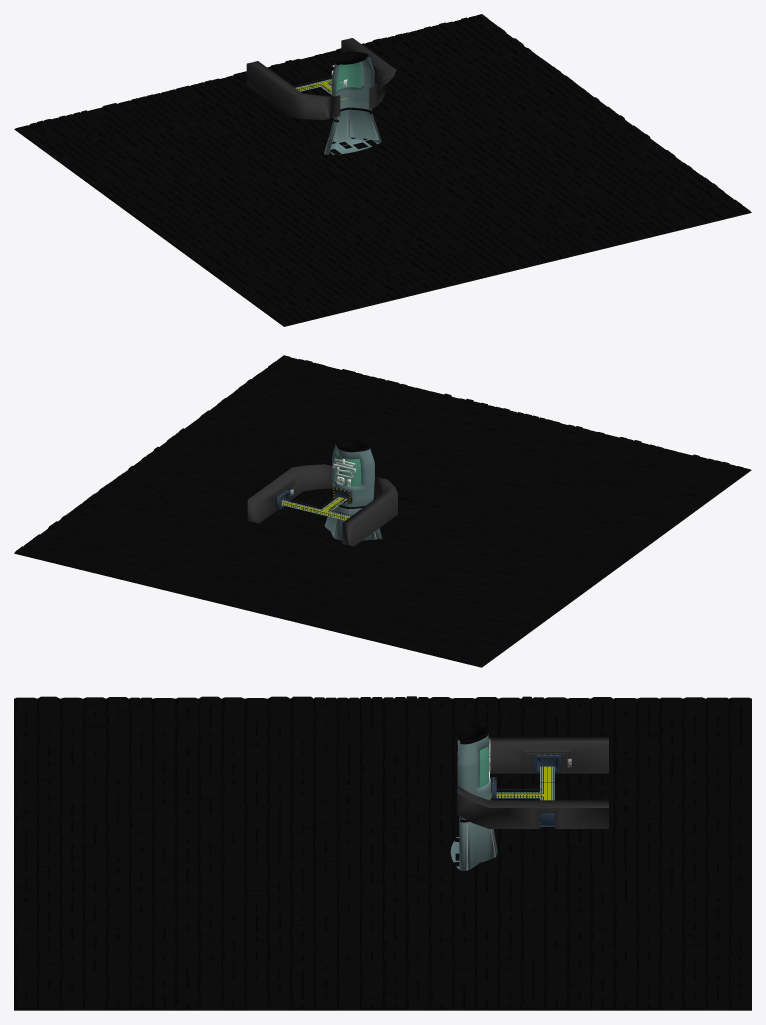
Rendered from Leo_Reator_Godoi_Review_smoothed_06.fbx.
The picture shows the model from 3 angles, top to bottom: view 1: azimuth 30°, elevation 25°; view 2: azimuth 150°, elevation 25°; view 3: azimuth 270°, elevation 25°; orthographic projection. The views are drawn at different scales.
Visible parts, largest first — view 1: discombobulated_mesh.001, Cube.001, Reator TRUE.003, Reator TRUE.002, Cube, Reator TRUE.005; view 2: discombobulated_mesh.001, Cube, Cube.001, Reator TRUE.002, Reator TRUE.003, Plane.003, Reator TRUE.005; view 3: discombobulated_mesh.001, Cube, Cube.001, Reator TRUE.003, Reator TRUE.002, Plane.003, Reator TRUE.
Part boxes in pixels (x1,y1,x2,y2): discombobulated_mesh.001: [14, 14, 751, 326]; Cube.001: [246, 61, 340, 119]; Reator TRUE.003: [324, 109, 381, 154]; Reator TRUE.002: [331, 56, 374, 120]; Cube: [341, 38, 396, 108]; Reator TRUE.005: [336, 62, 361, 91]; discombobulated_mesh.001: [14, 355, 751, 667]; Cube: [247, 464, 332, 523]; Cube.001: [342, 476, 397, 546]; Reator TRUE.002: [332, 443, 374, 507]; Reator TRUE.003: [325, 506, 382, 540]; Plane.003: [281, 497, 349, 520]; Reator TRUE.005: [335, 454, 361, 486]; discombobulated_mesh.001: [14, 696, 751, 1010]; Cube: [457, 786, 608, 828]; Cube.001: [457, 737, 608, 786]; Reator TRUE.003: [450, 819, 497, 870]; Reator TRUE.002: [457, 734, 490, 820]; Plane.003: [490, 766, 554, 823]; Reator TRUE: [453, 720, 487, 822].
Size of the model in its own units: 75303 by 13969 by 75303.
